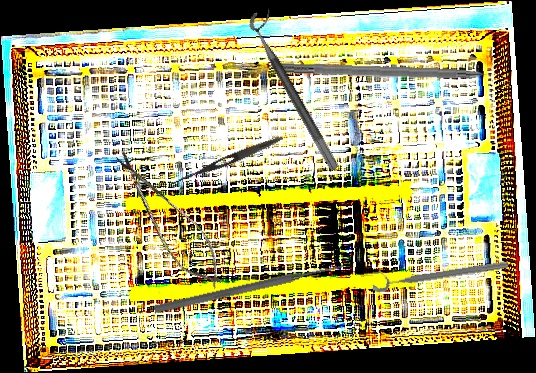Dressing Forceps: (169, 132, 285, 190)
Fixation Ring: (244, 6, 353, 172), (370, 249, 509, 294)
Hook Surgical: (278, 61, 511, 85)
Micro Scissor: (100, 141, 237, 299)
Pusher: (153, 260, 345, 316)
